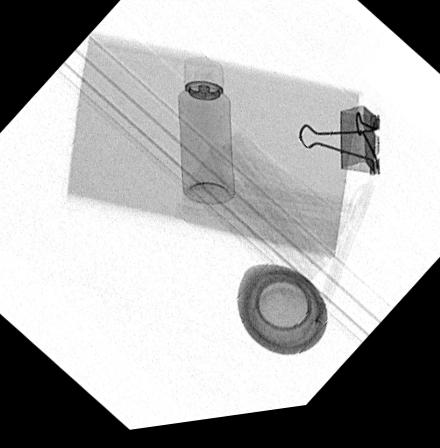Sprayer: (178, 61, 233, 210)
